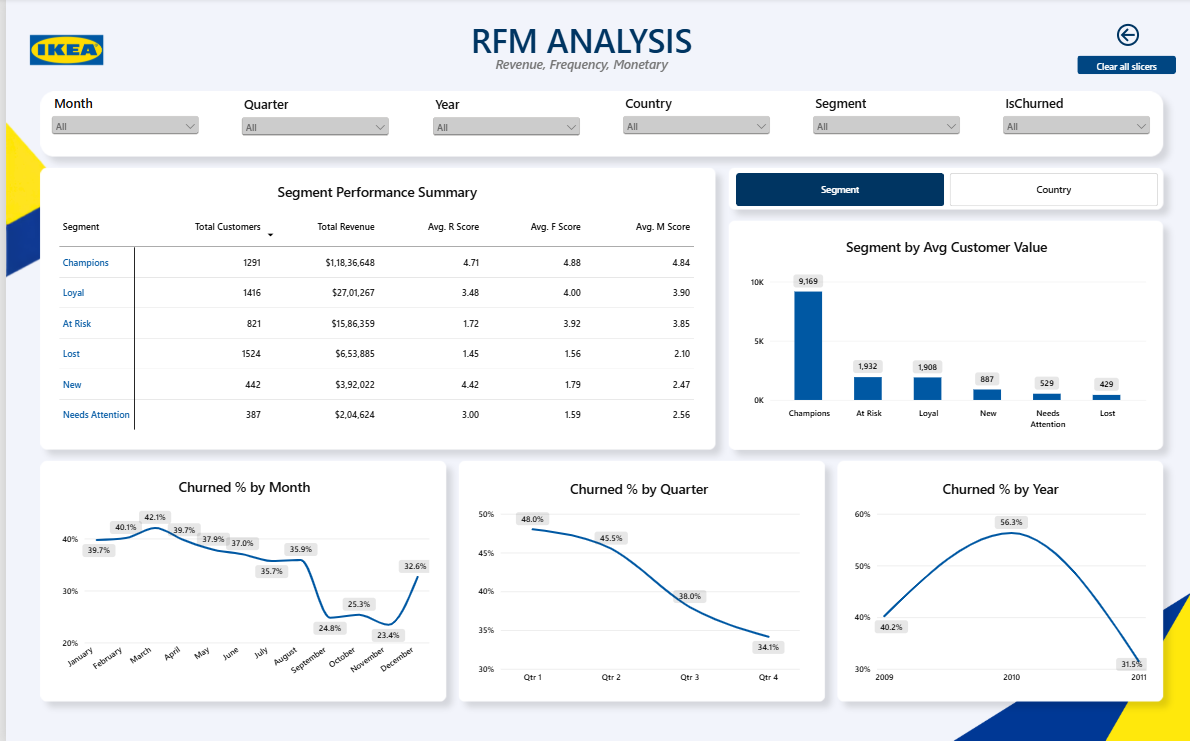

The page's visual inventory and layout, read from the dashboard file:
{"tool":"powerbi","page":{"name":"RFM Analysis","canvas":[1750,1100],"ordinal":2},"visuals":[{"type":"slicer","fields":{"Values":["Sheet1.InvoiceDate.Variation.Date Hierarchy.Month"]},"box":[63.1,141.9,226.6,84.7],"z":0},{"type":"pivotTable","title":"Segment Performance Summary","fields":{"Rows":["Sheet1.Segment"],"Values":["_Measure.Total Customers","_Measure.Total Revenue","Avg(Sheet1.R_Score)","Avg(Sheet1.F_Score)","Avg(Sheet1.M_Score)"]},"box":[62.7,258,969.5,396.3],"z":0,"group":"g2"},{"type":"lineChart","title":"Churned % by Month","fields":{"Category":["Sheet1.InvoiceMonth.Variation.Date Hierarchy.Month"],"Y":["_Measure.Churned %"]},"box":[62.7,693,577.4,335],"z":0,"group":"g1"},{"type":"slicer","fields":{"Values":["Sheet1.InvoiceDate.Variation.Date Hierarchy.Quarter"]},"box":[343.7,143.9,226.6,84.7],"z":1000},{"type":"columnChart","title":"Segment by Avg Customer Value","fields":{"Category":["Sheet1.Segment"],"Y":["_Measure.Avg Customer Value"]},"box":[1076.4,339.1,621.1,315.2],"z":1000,"group":"g2"},{"type":"lineChart","title":"Churned % by Quarter","fields":{"Category":["Sheet1.InvoiceMonth.Variation.Date Hierarchy.Quarter"],"Y":["_Measure.Churned %"]},"box":[680.2,694.8,506.5,335],"z":1000,"group":"g1"},{"type":"slicer","fields":{"Values":["Sheet1.InvoiceDate.Variation.Date Hierarchy.Year"]},"box":[624.3,143.9,226.6,84.7],"z":2000},{"type":"lineChart","title":"Churned % by Year","fields":{"Category":["Sheet1.InvoiceMonth.Variation.Date Hierarchy.Year"],"Y":["_Measure.Churned %"]},"box":[1235,694.8,463.1,335],"z":2000,"group":"g1"},{"type":"slicer","fields":{"Values":["Sheet1.Country"]},"box":[905,141.9,226.6,84.7],"z":3000},{"type":"slicer","fields":{"Values":["Sheet1.Segment"]},"box":[1185.6,141.9,226.6,84.7],"z":4000},{"type":"slicer","fields":{"Values":["Sheet1.IsChurned"]},"box":[1466.2,141.9,226.6,84.7],"z":5000},{"type":"group","id":"g1","title":"Customer","box":[62.7,693,1635.4,336.9],"z":6000},{"type":"bookmarkNavigator","box":[1076,258.2,616.8,45.3],"z":8000},{"type":"image","box":[11.1,29.5,156.7,94],"z":9000},{"type":"textbox","box":[496.5,29.5,705.9,88.5],"z":10000},{"type":"actionButton","box":[1620.1,31.3,68.2,46.1],"z":11000},{"type":"actionButton","box":[1579.6,84.8,145.6,27.6],"z":12000},{"type":"textbox","box":[680.8,84.8,337.3,29.5],"z":13000},{"type":"group","id":"g2","title":"Segment","box":[62.7,258,1634.9,396.3],"z":14000},{"type":"bookmarkNavigator","box":[1076,258.2,622.7,49.3],"z":16000}]}

Visuals, with their boxes in screenshot pixels (x1, y1, x2, y2), scaled from the page's 1750x1100 canvas onto the 1190x741 screenshot:
slicer - Sheet1.InvoiceDate.Variation.Date Hierarchy.Month: crop(43, 96, 197, 153)
"Segment Performance Summary" pivotTable: crop(43, 174, 702, 441)
"Churned % by Month" lineChart: crop(43, 467, 435, 692)
slicer - Sheet1.InvoiceDate.Variation.Date Hierarchy.Quarter: crop(234, 97, 388, 154)
"Segment by Avg Customer Value" columnChart: crop(732, 228, 1154, 441)
"Churned % by Quarter" lineChart: crop(463, 468, 807, 694)
slicer - Sheet1.InvoiceDate.Variation.Date Hierarchy.Year: crop(425, 97, 579, 154)
"Churned % by Year" lineChart: crop(840, 468, 1155, 694)
slicer - Sheet1.Country: crop(615, 96, 769, 153)
slicer - Sheet1.Segment: crop(806, 96, 960, 153)
slicer - Sheet1.IsChurned: crop(997, 96, 1151, 153)
"Customer" group: crop(43, 467, 1155, 694)
bookmarkNavigator: crop(732, 174, 1151, 204)
image: crop(8, 20, 114, 83)
textbox: crop(338, 20, 818, 79)
actionButton: crop(1102, 21, 1148, 52)
actionButton: crop(1074, 57, 1173, 76)
textbox: crop(463, 57, 692, 77)
"Segment" group: crop(43, 174, 1154, 441)
bookmarkNavigator: crop(732, 174, 1155, 207)
